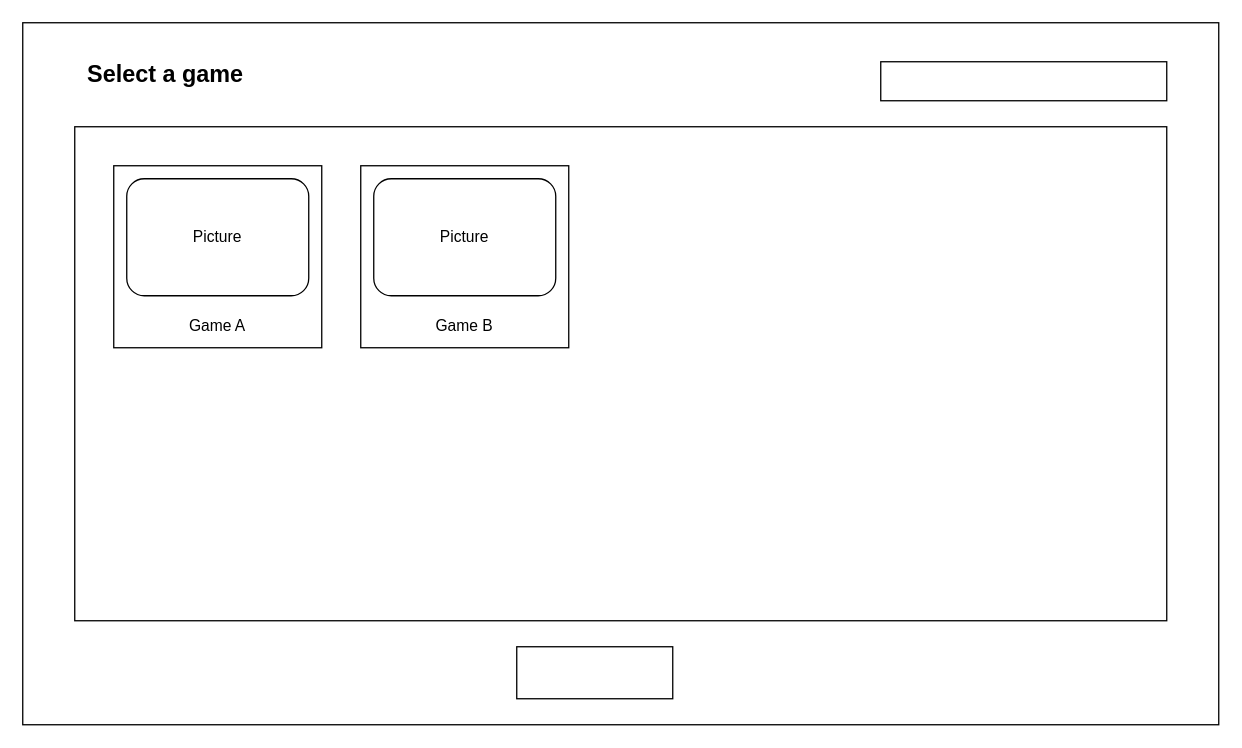
This 1242x748 diagram has some shape labels left out. Each missing label, with the centre of its shape:
Confirm: pixel 594 672
Search bar: pixel 1023 80
